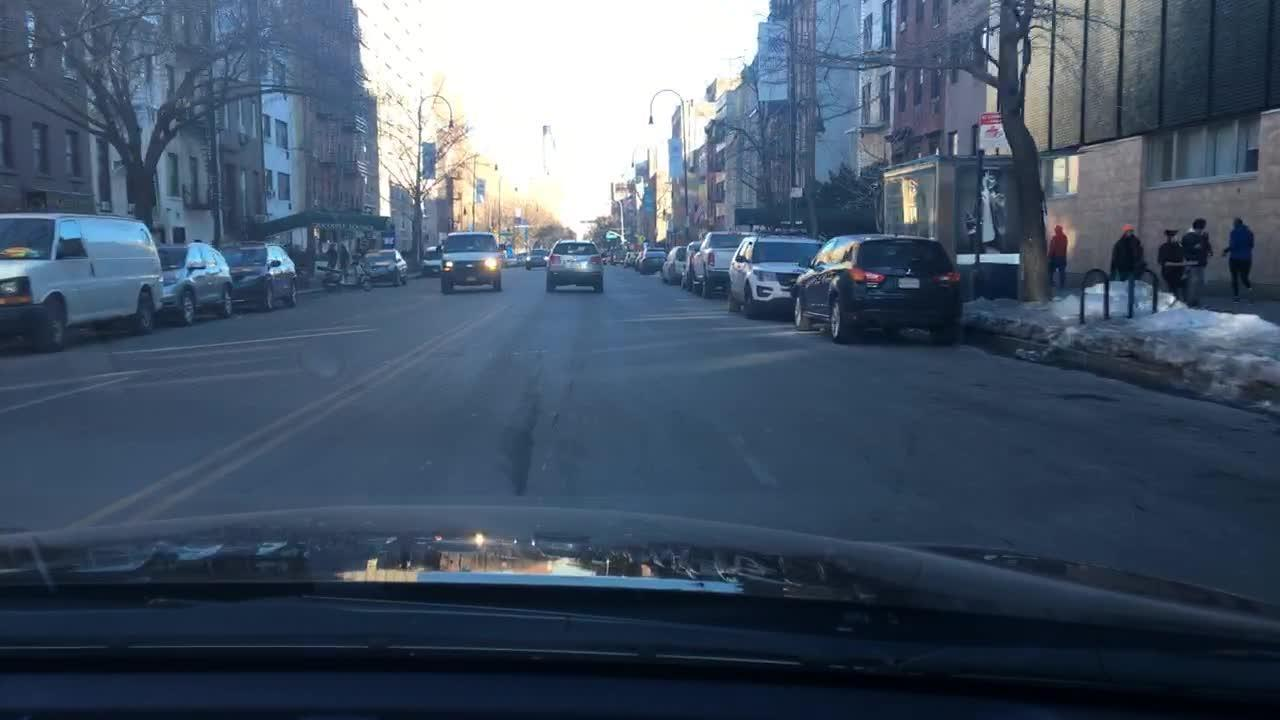Mitsubishi: (905, 267, 916, 278)
